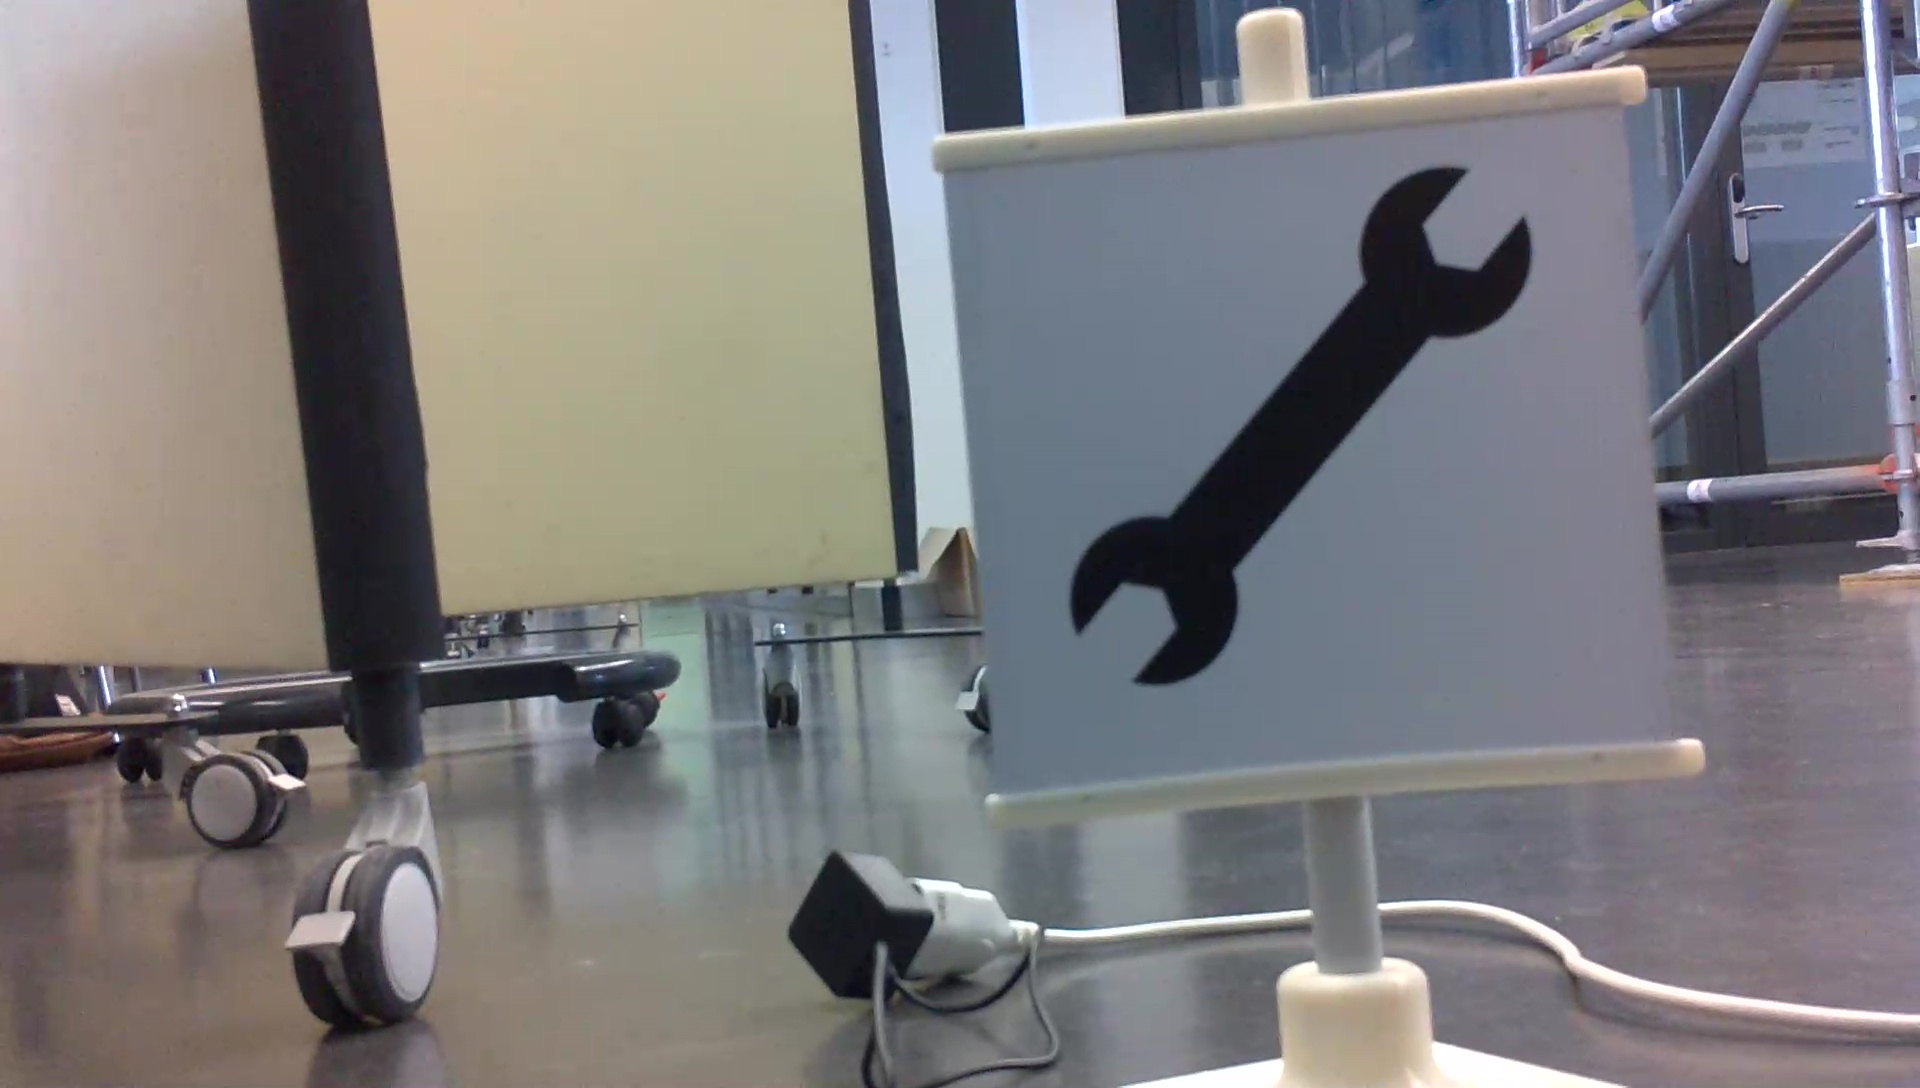wrench: (1055, 158, 1540, 692)
